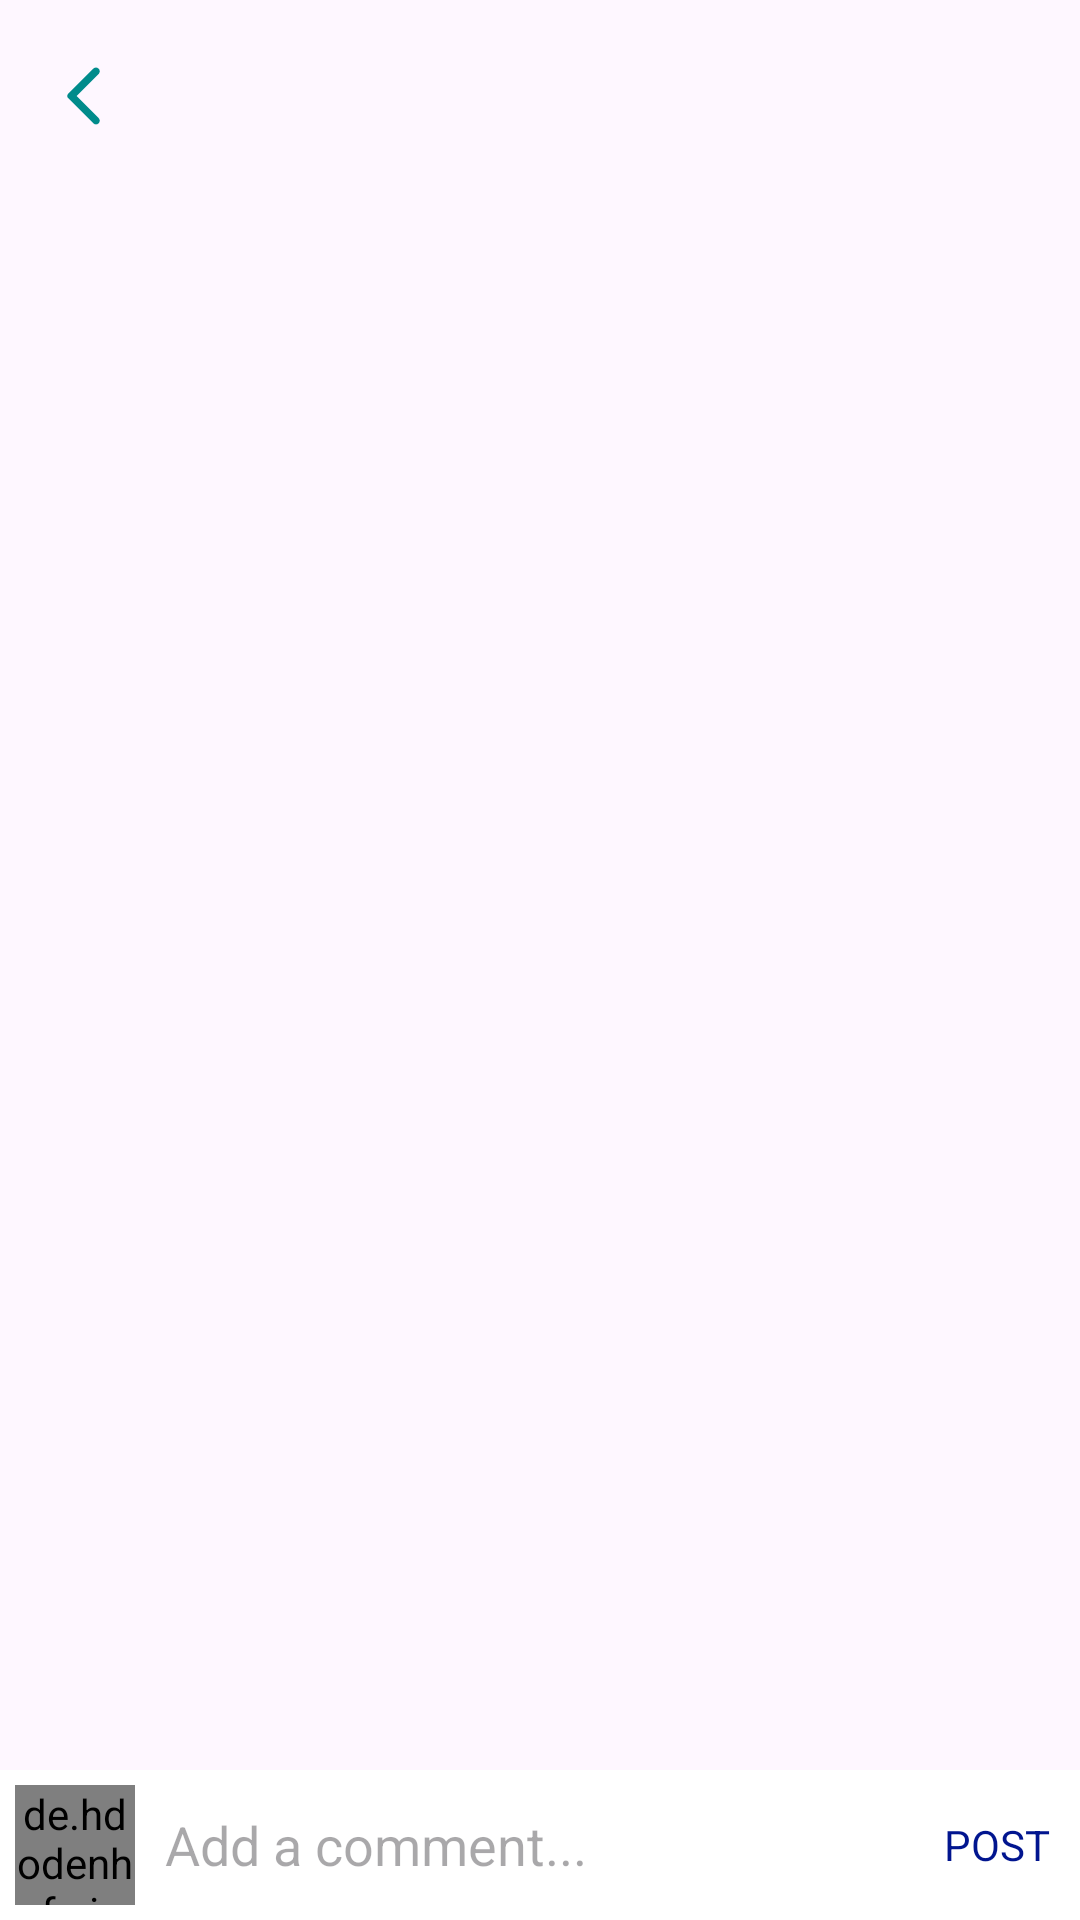

Where icons sit on this 1080*1920 app screen, as (x1, y1, x2, y2):
Back: (67, 67, 100, 125)
